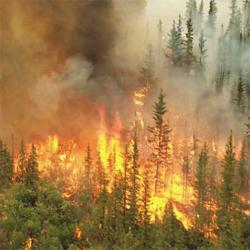fire: (94, 134, 126, 168), (149, 187, 172, 217), (169, 166, 184, 199)
smoke: (33, 1, 126, 62)
